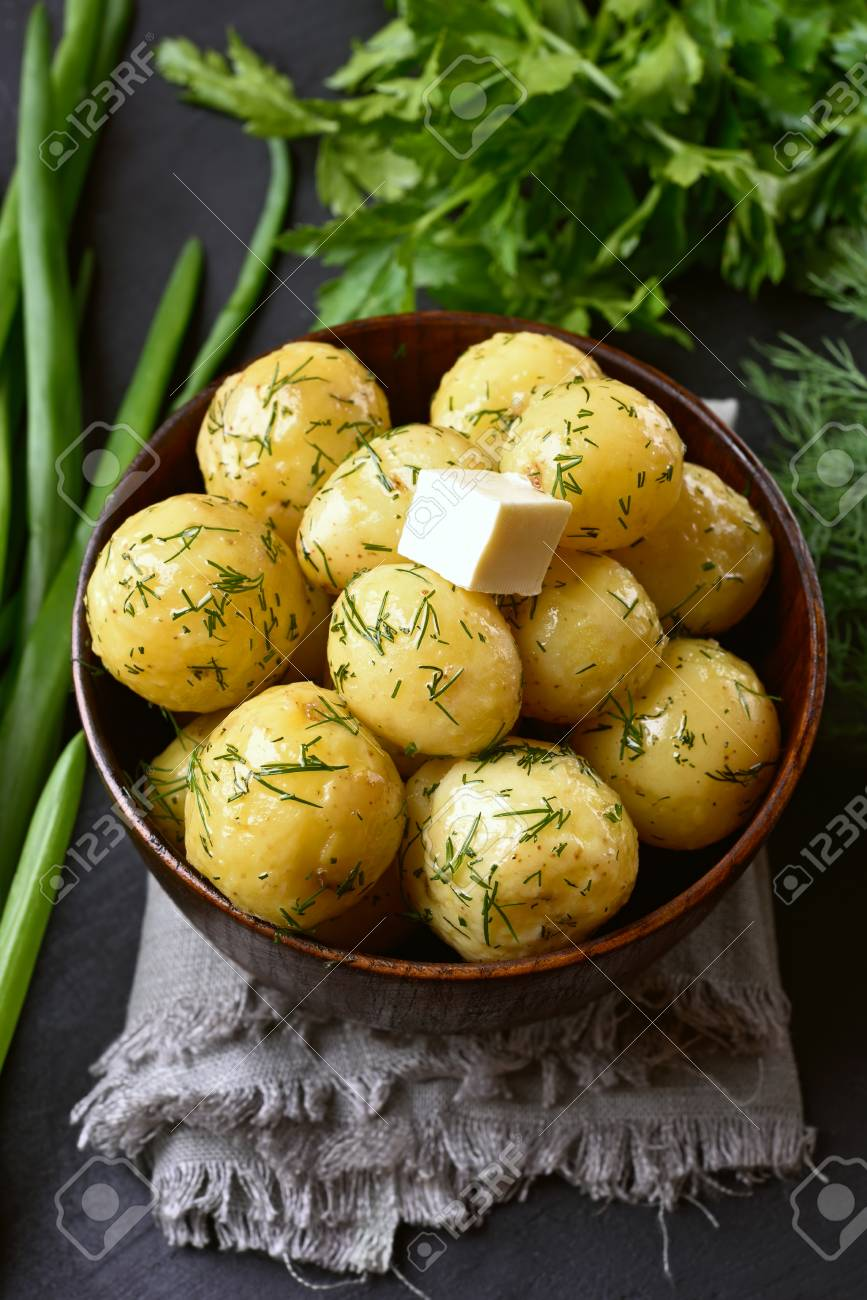boiled potatoes: (178, 667, 394, 905), (83, 510, 308, 688), (327, 563, 515, 762), (597, 631, 773, 840), (409, 754, 619, 926), (299, 417, 481, 612), (510, 390, 677, 555), (503, 548, 647, 727), (202, 341, 355, 492), (417, 331, 599, 444), (647, 473, 769, 630)
chopped lettuce: (284, 6, 867, 317)
